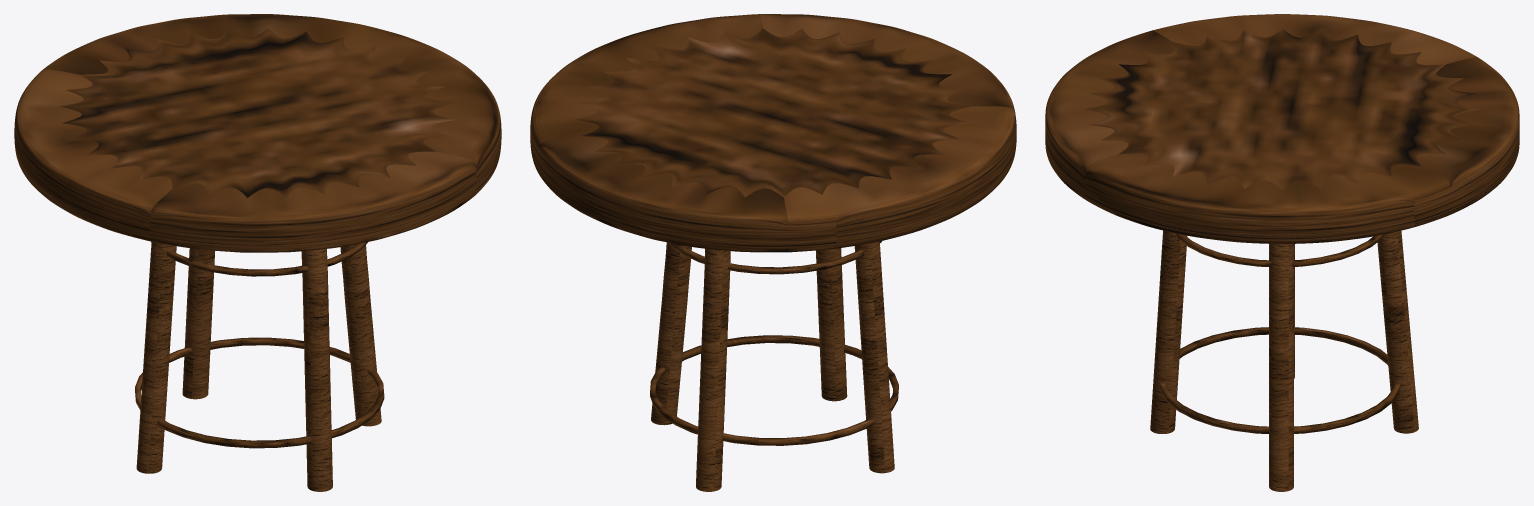
File: tavolo.obj
3 views of the same model, side by side, from view 1: azimuth 30°, elevation 25°; view 2: azimuth 150°, elevation 25°; view 3: azimuth 270°, elevation 25° (orthographic). The views are drawn at different scales.
Parts seen in each view (by area): view 1: Cylinder, Cylinder.003_Cylinder.006; view 2: Cylinder, Cylinder.003_Cylinder.006; view 3: Cylinder, Cylinder.003_Cylinder.006.
Part boxes in pixels (x1=…): Cylinder: x1=14, y1=14, x2=501, y2=252; Cylinder.003_Cylinder.006: x1=135, y1=241, x2=384, y2=491; Cylinder: x1=530, y1=14, x2=1016, y2=252; Cylinder.003_Cylinder.006: x1=650, y1=241, x2=898, y2=491; Cylinder: x1=1045, y1=14, x2=1519, y2=243; Cylinder.003_Cylinder.006: x1=1150, y1=230, x2=1418, y2=491.
Bounding box in the file's own units: 3.42 × 2.59 × 3.43.
Materials: 1 (1 with a texture image).
